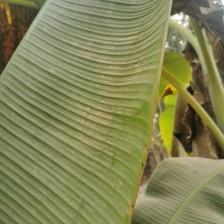healthy: (0, 0, 172, 224), (134, 154, 224, 223)
